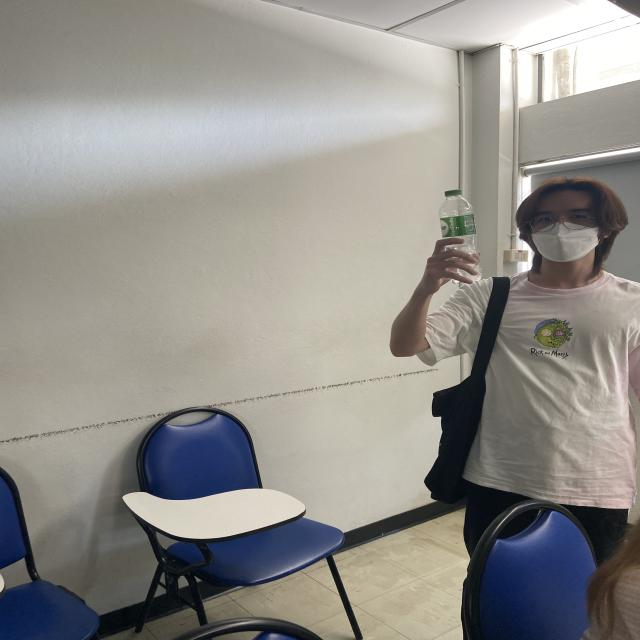bottle: (438, 189, 483, 284)
